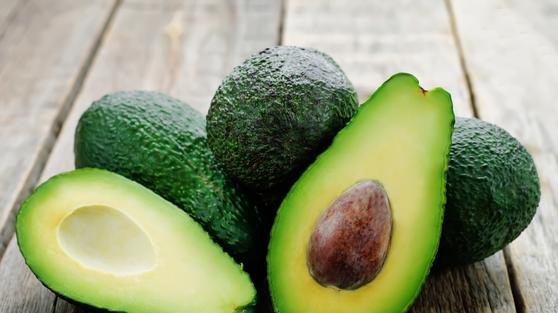avocado: (71, 82, 279, 270), (204, 43, 358, 199)
